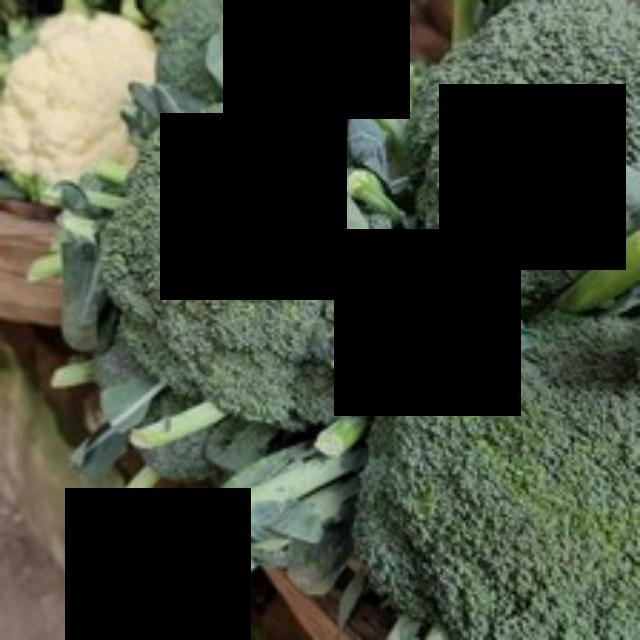broccoli: (99, 89, 420, 452)
